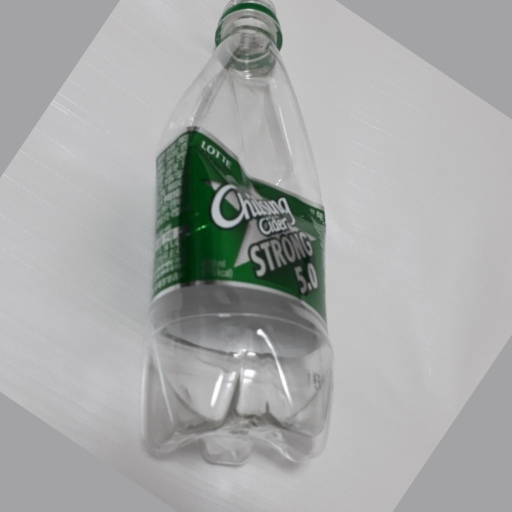Plastic_0: (145, 1, 334, 469)
